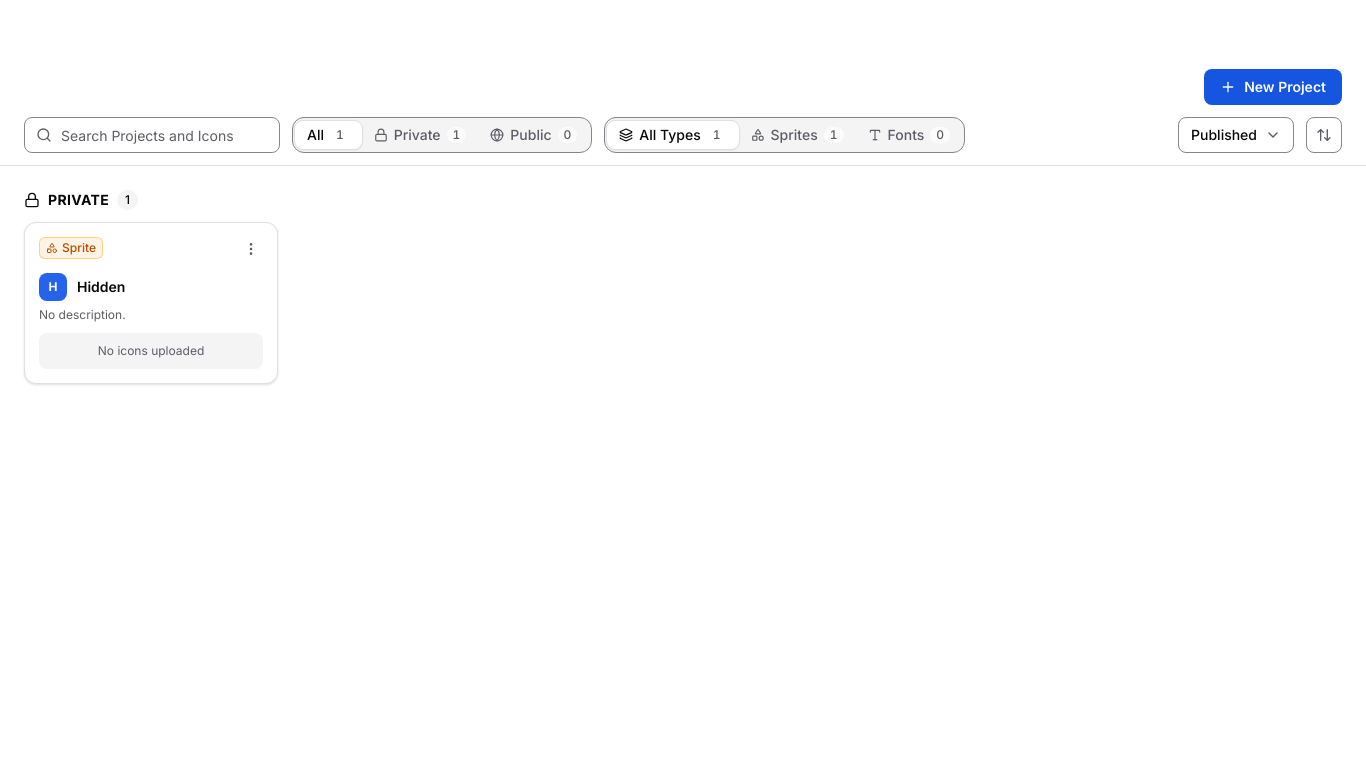
Test: making a project public or private › asks before making a project public, then changes it
This screenshot has width=1366, height=768.
Click the button named "Actions for Hidden". click: (251,249)
box: 239,237 -> 263,261
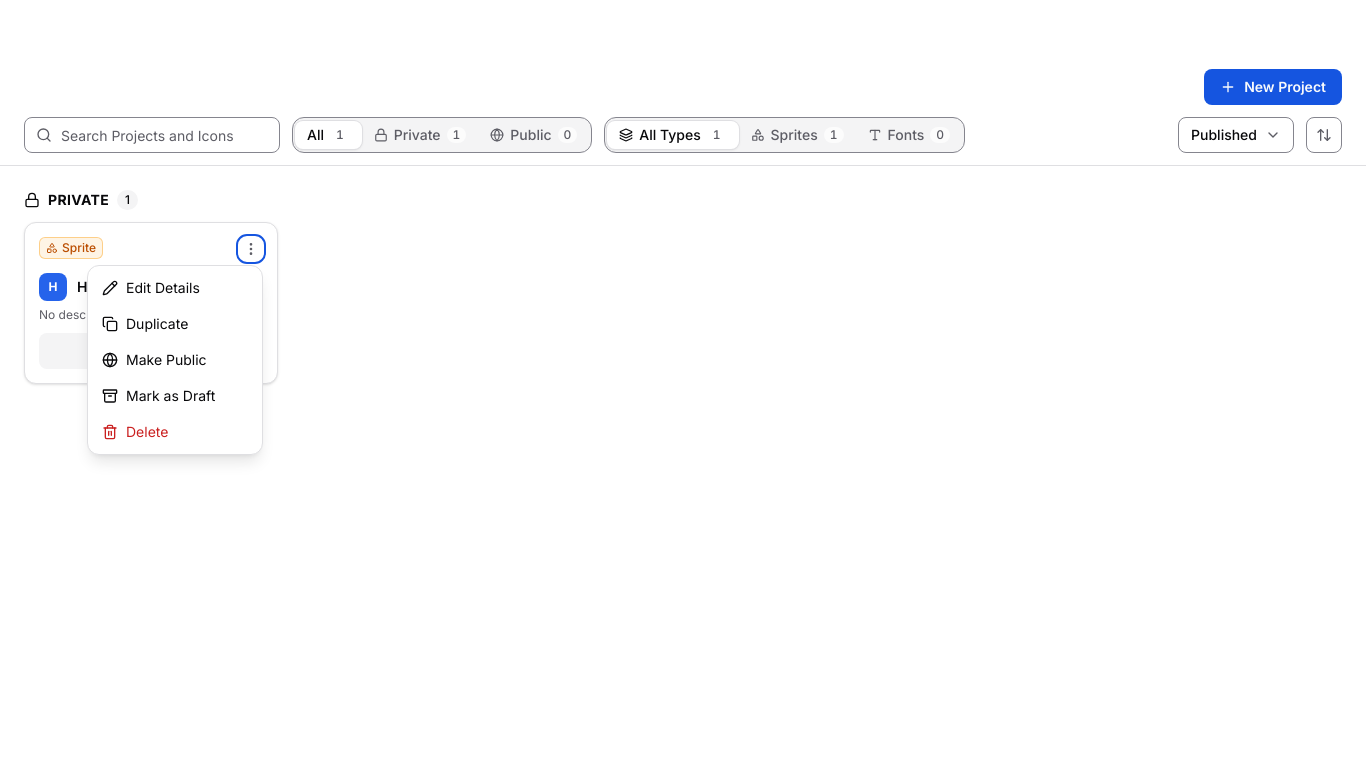
Click the menu item "Make Public". click: (175,360)
box: 92,342 -> 258,378
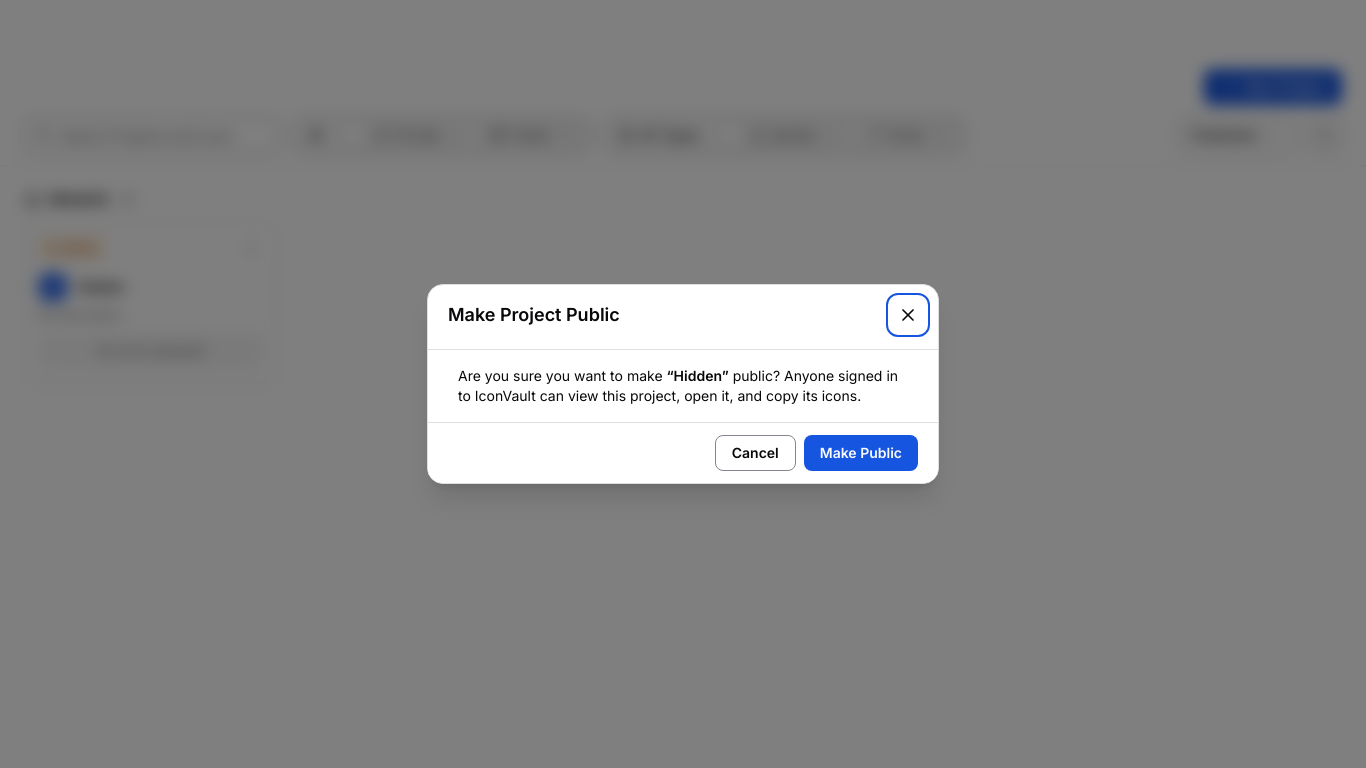
Result: the dialog "Make Project Public" shows "Are you sure you want to make “Hidden” public?" at 427,284 -> 939,484
Click the button "Make Public". click: (861,453)
box: 804,435 -> 918,471
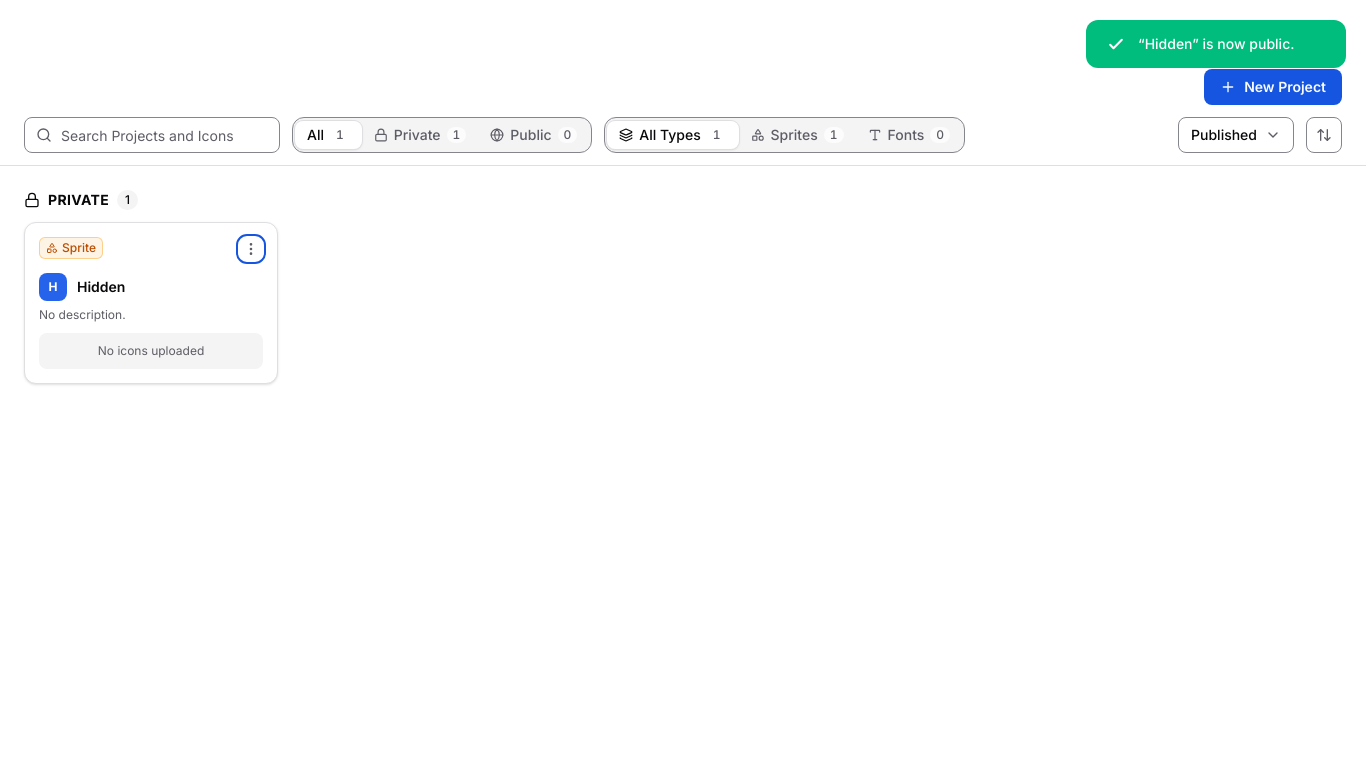
Result: the dialog is gone
